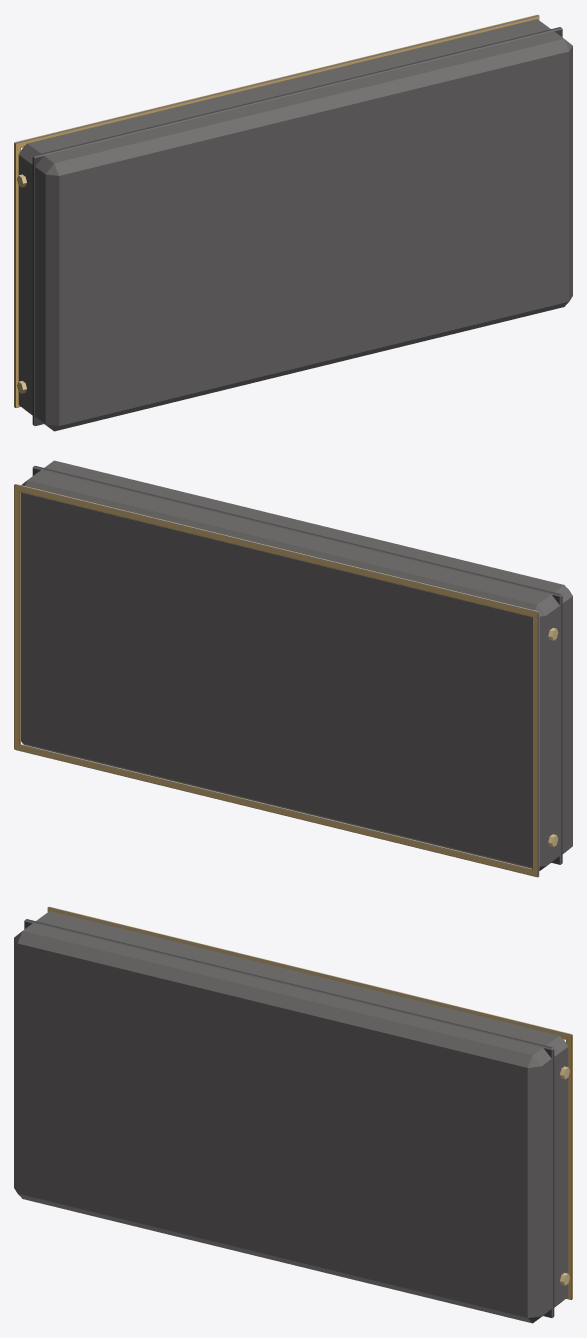
Rendered from Housing_2x1.fbx.
3 views of the same model, one above another, from view 1: azimuth 30°, elevation 25°; view 2: azimuth 150°, elevation 25°; view 3: azimuth 330°, elevation 25° (orthographic).
Parts seen in each view (by area): view 1: Housing_2x1; view 2: Housing_2x1; view 3: Housing_2x1.
Part boxes in pixels (<box>): Housing_2x1: <box>14,14,572,431</box>; Housing_2x1: <box>14,460,572,877</box>; Housing_2x1: <box>14,906,572,1323</box>.
Bounding box in the file's own units: 2.17 × 1.05 × 0.27.
